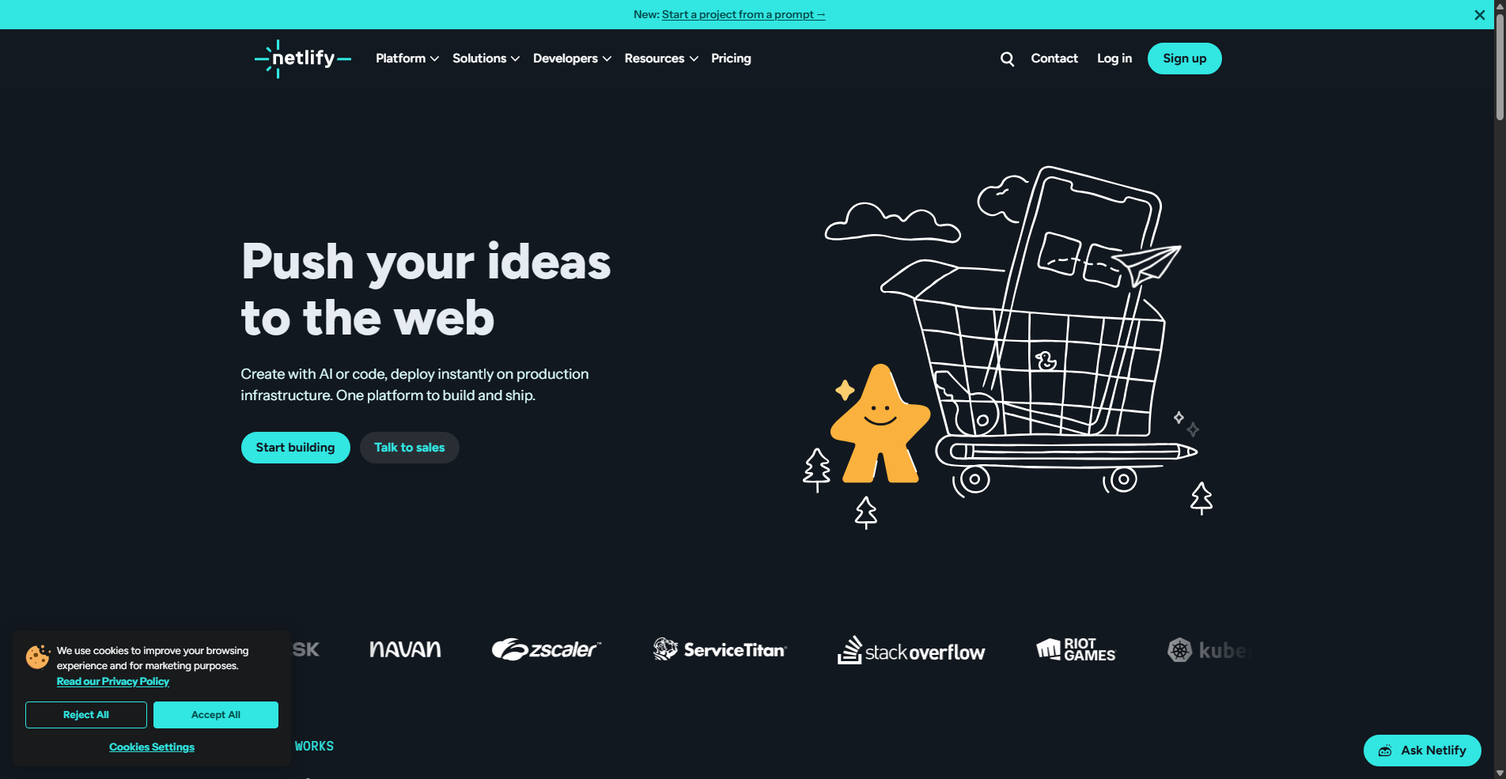button: (25, 689, 278, 754), (1363, 735, 1481, 766), (241, 432, 350, 464), (153, 702, 278, 728), (359, 432, 460, 464), (25, 702, 147, 728), (25, 741, 278, 753), (1148, 43, 1222, 74), (993, 43, 1022, 74), (507, 50, 524, 67), (685, 50, 702, 67), (427, 50, 443, 67), (599, 50, 615, 67), (1472, 7, 1488, 23)
link: (255, 40, 351, 79), (57, 674, 278, 689), (662, 7, 826, 21), (594, 308, 731, 323), (1022, 43, 1088, 74), (702, 43, 761, 74), (1088, 43, 1142, 74), (385, 186, 495, 201), (462, 163, 553, 179), (634, 184, 725, 200), (462, 139, 557, 154), (542, 139, 635, 154), (673, 139, 761, 154), (594, 212, 675, 228), (594, 163, 672, 179), (673, 115, 752, 130), (805, 188, 879, 203), (542, 212, 610, 228), (805, 139, 876, 154), (594, 139, 663, 154), (634, 209, 703, 224), (673, 163, 735, 179), (542, 188, 607, 203), (594, 188, 658, 203), (819, 163, 877, 179), (634, 111, 692, 127), (594, 115, 653, 130), (594, 236, 649, 252), (542, 163, 597, 179), (462, 115, 520, 130), (634, 160, 692, 175), (716, 236, 767, 252), (673, 188, 725, 203), (819, 115, 869, 130), (819, 212, 865, 228), (805, 163, 850, 179), (805, 115, 847, 130), (716, 163, 754, 179), (802, 236, 837, 252), (716, 139, 753, 154), (716, 212, 750, 228), (634, 136, 670, 151), (716, 188, 747, 203), (716, 115, 745, 130), (542, 115, 569, 130), (819, 139, 846, 154), (634, 87, 658, 102), (819, 188, 841, 203)
